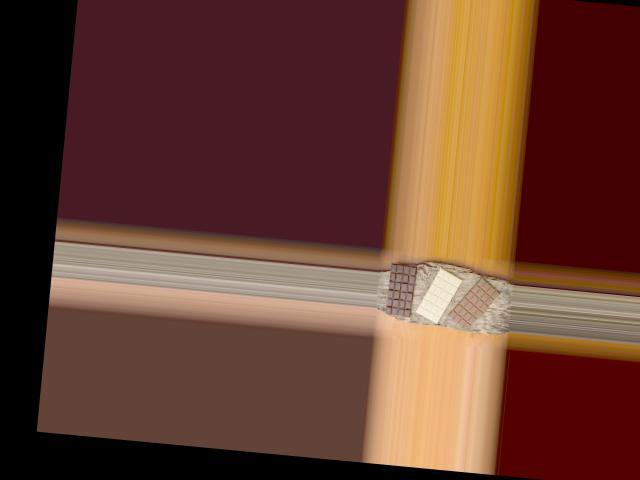chocolate: (384, 262, 416, 317)
